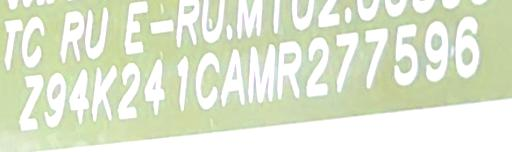letter: (454, 13, 480, 79), (246, 43, 274, 103), (423, 18, 449, 82), (364, 27, 390, 88), (276, 39, 302, 99), (220, 46, 246, 106), (394, 21, 418, 85), (334, 32, 358, 95), (194, 50, 220, 108), (116, 58, 140, 119), (18, 75, 44, 131), (306, 35, 330, 95), (92, 63, 116, 121), (143, 58, 167, 115), (66, 67, 90, 123), (45, 71, 67, 130), (172, 53, 190, 113)
